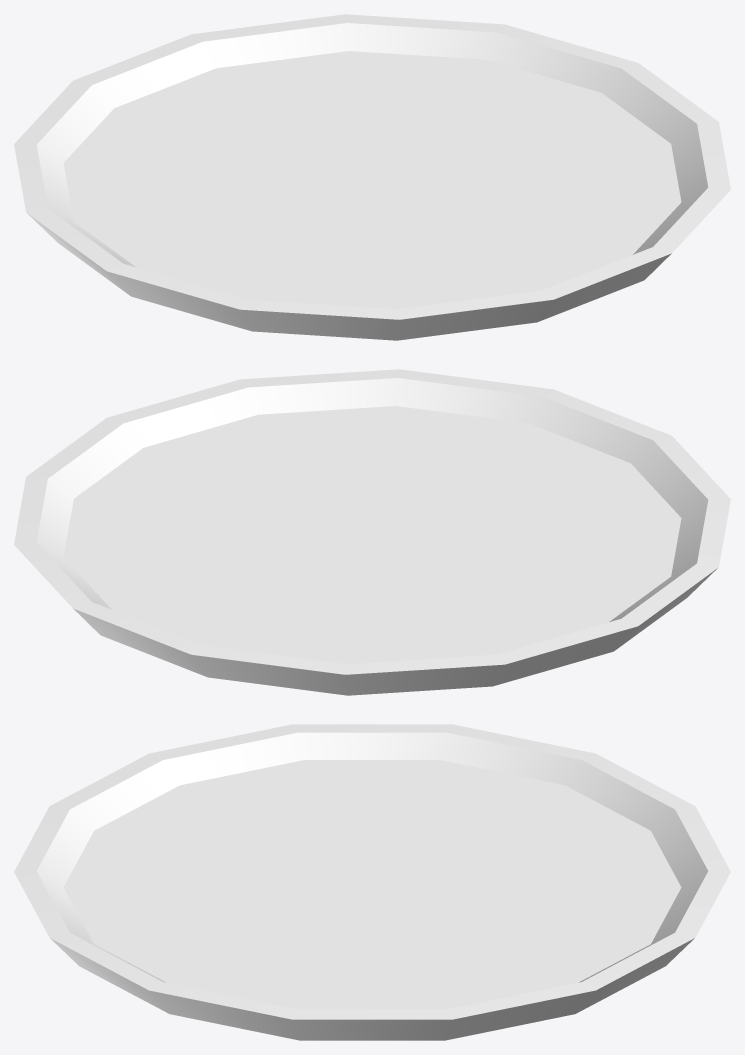
Rendered from Cafe_Tray.fbx.
3 renders of one model, top to bottom at view 1: azimuth 30°, elevation 25°; view 2: azimuth 150°, elevation 25°; view 3: azimuth 270°, elevation 25°, orthographic.
Visible parts, largest first — view 1: Cafe_Tray; view 2: Cafe_Tray; view 3: Cafe_Tray.
Part boxes in pixels (x1,y1,x2,y2): Cafe_Tray: (14, 14, 730, 340); Cafe_Tray: (14, 369, 730, 695); Cafe_Tray: (14, 724, 730, 1040).
Bounding box in the file's own units: 52.15 × 2.92 × 53.49.
